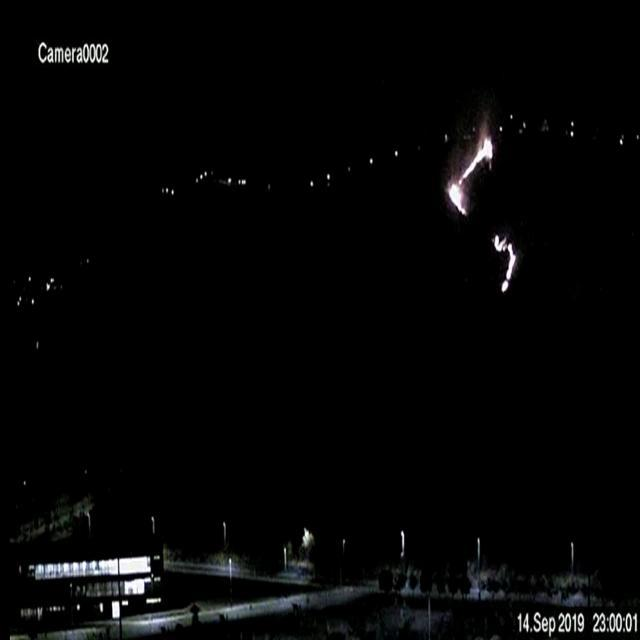Fire: (436, 130, 496, 217), (490, 228, 517, 294)
